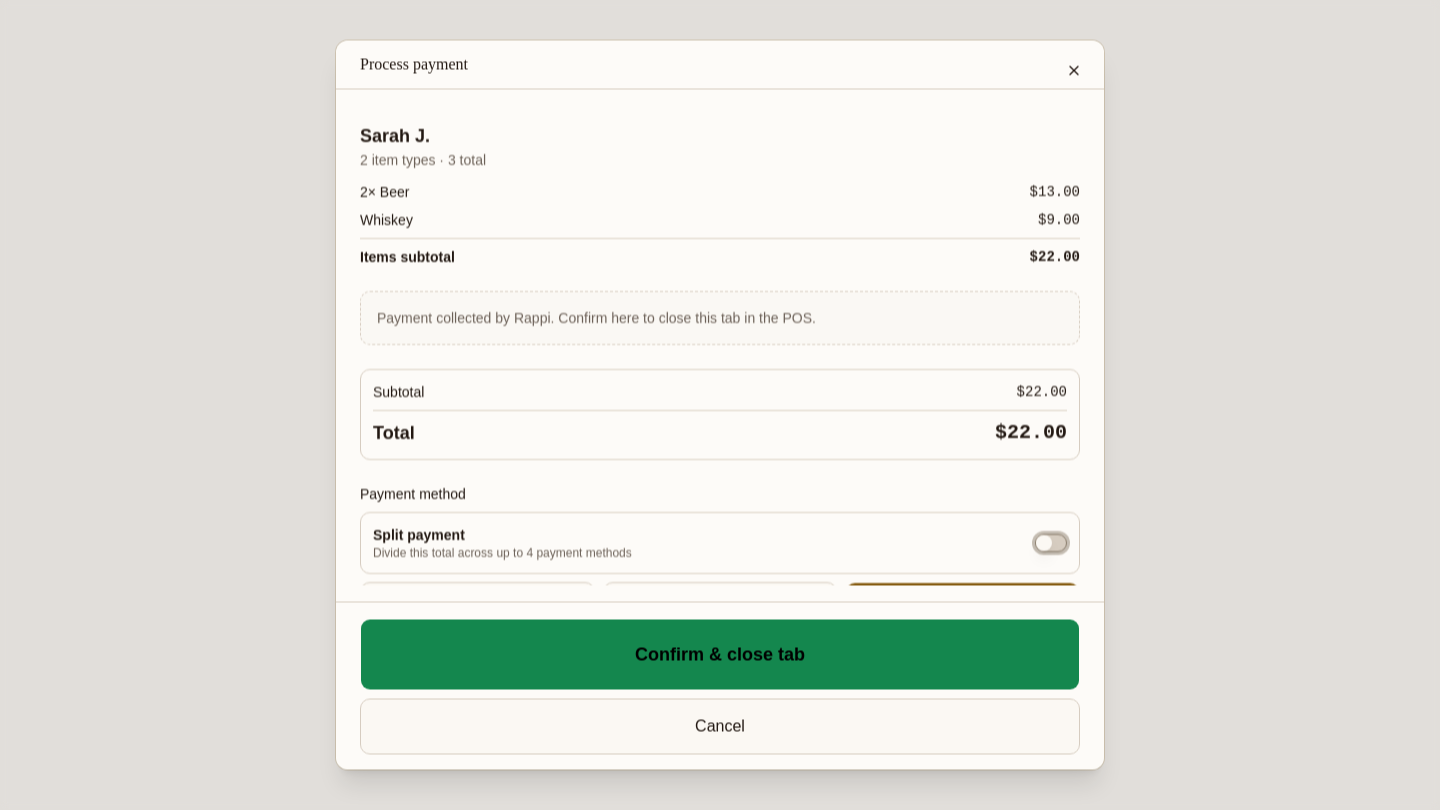
Test case: PaymentModal › completes Rappi payment without cash drawer
Click the button "Confirm & close tab" at (720, 654), box [360,618,1080,690]
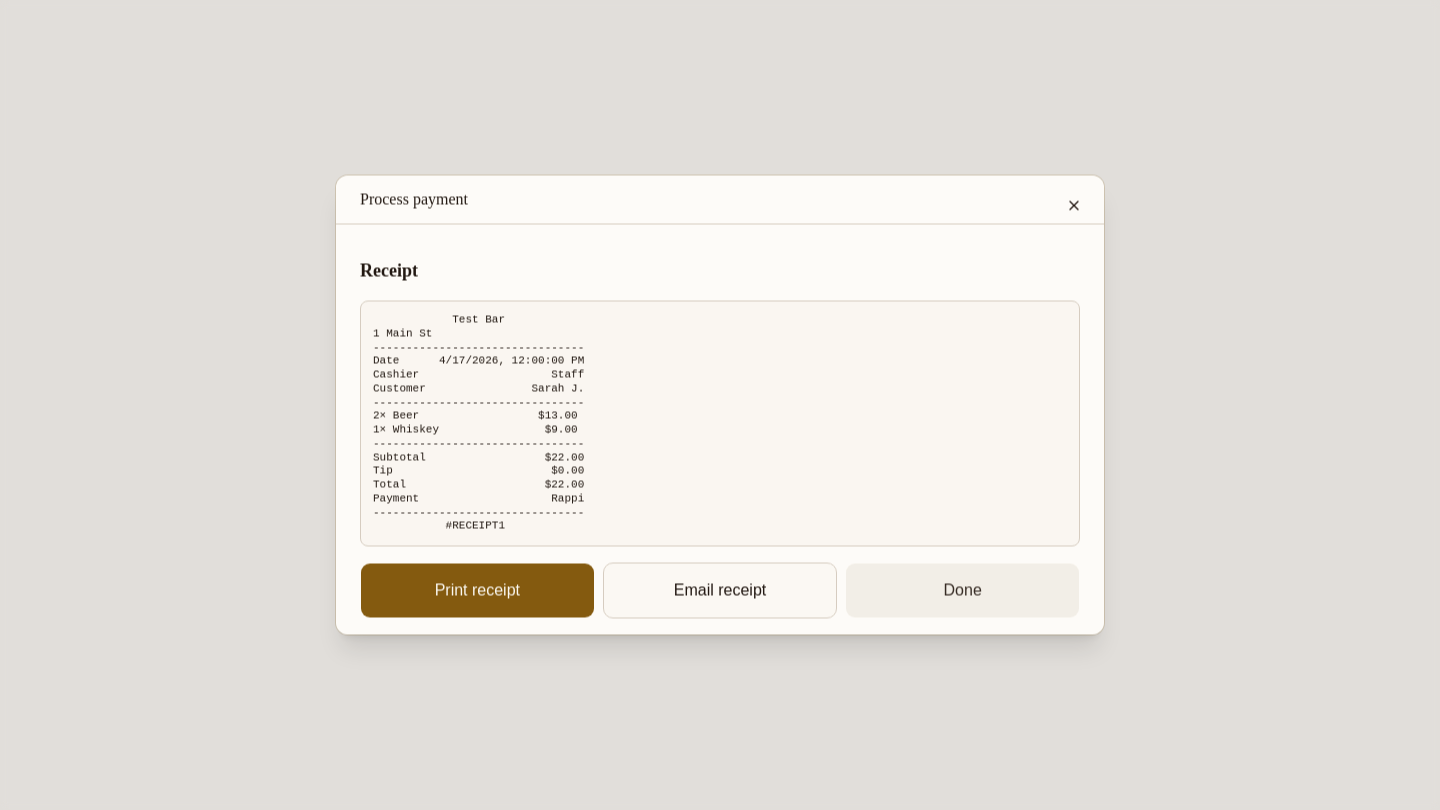
Expected: the heading "Receipt" is shown, [360,260,418,280]
